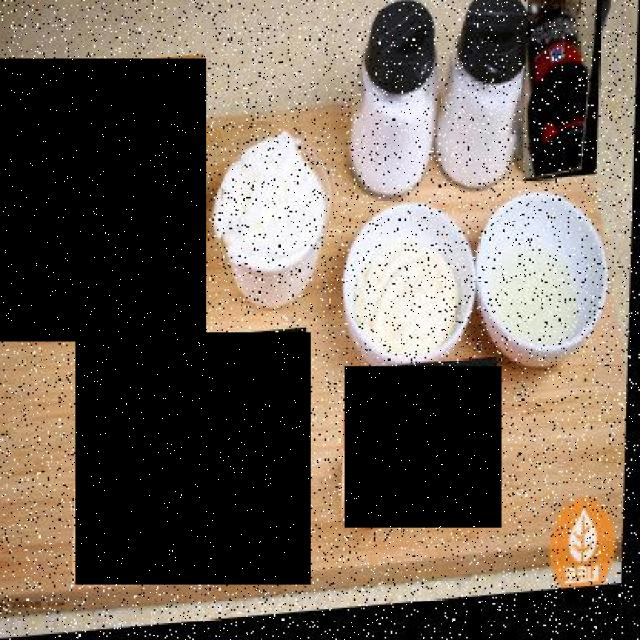Cabbage: (0, 59, 206, 341)
Carrot: (344, 366, 502, 528)
Ham: (75, 333, 311, 584)
